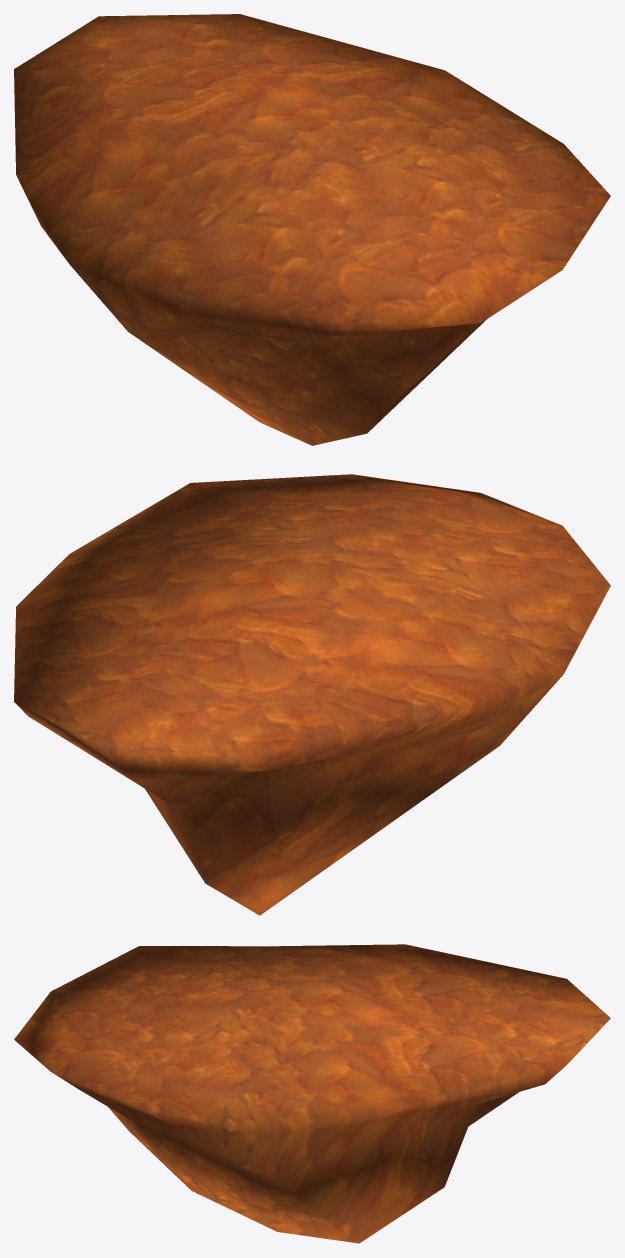
Rendered from durotarcliffrock04.obj.
The picture shows the model from 3 angles, top to bottom: view 1: azimuth 30°, elevation 25°; view 2: azimuth 150°, elevation 25°; view 3: azimuth 270°, elevation 25°; orthographic projection. The views are drawn at different scales.
Parts seen in each view (by area): view 1: DurotarCliffRock04; view 2: DurotarCliffRock04; view 3: DurotarCliffRock04.
Boxes of the visible parts, x1=… form: DurotarCliffRock04: x1=14, y1=14, x2=610, y2=445; DurotarCliffRock04: x1=14, y1=474, x2=610, y2=915; DurotarCliffRock04: x1=14, y1=944, x2=610, y2=1243.
Bounding box in the file's own units: 47.96 × 29.99 × 64.22.
Materials: 1 (1 with a texture image).
